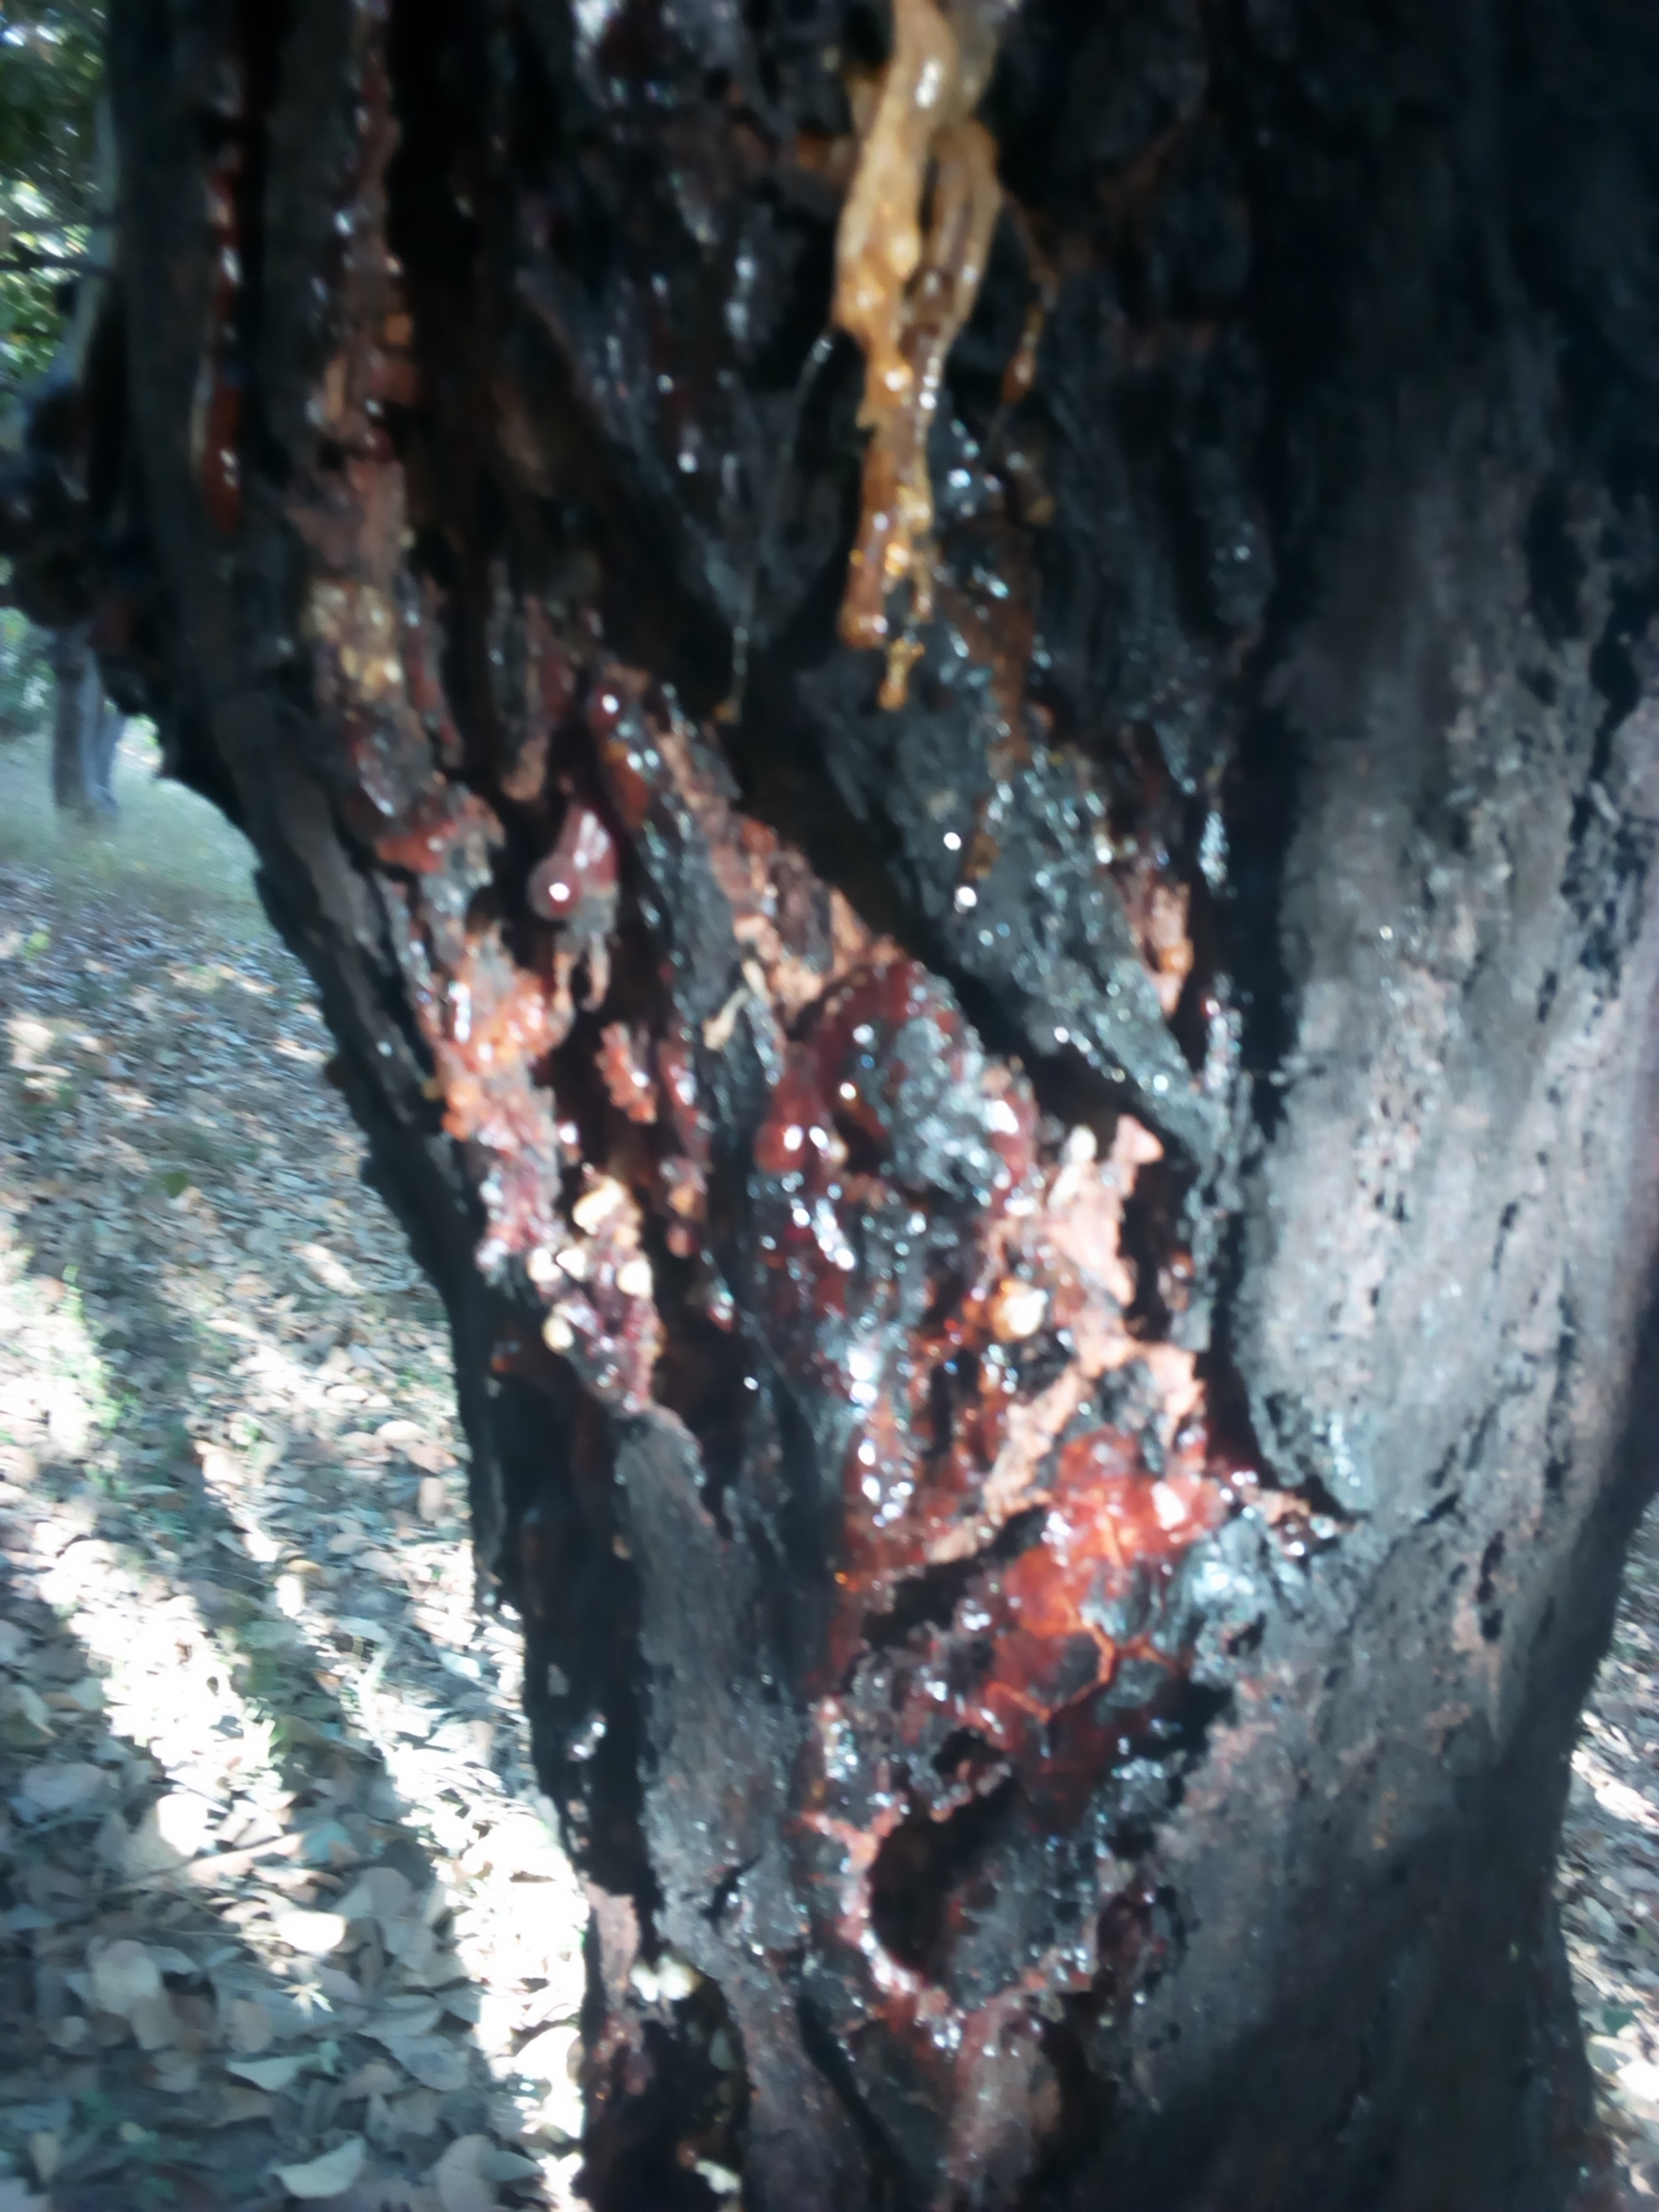Gommose: (162, 16, 1500, 2170)
